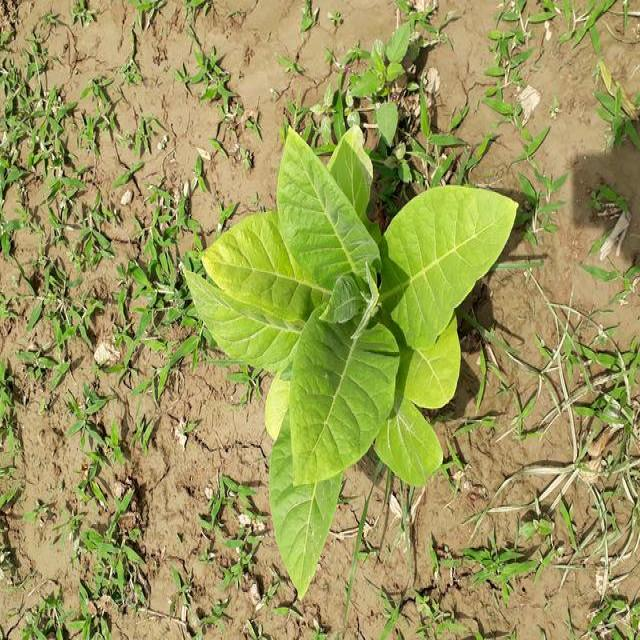crop: (197, 130, 523, 574)
